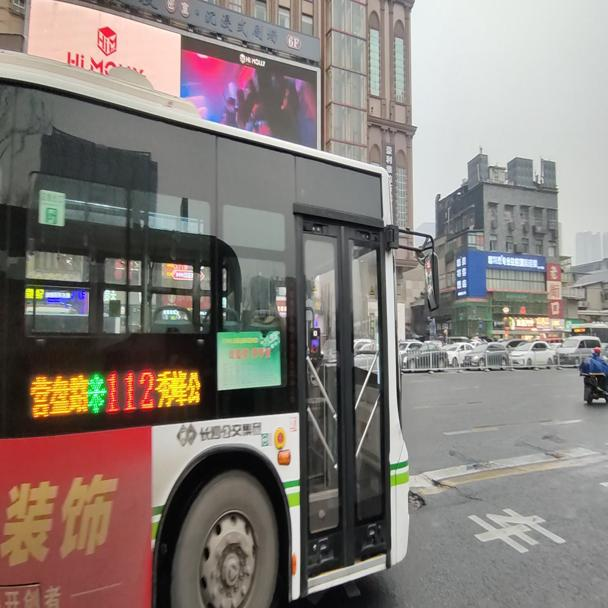bus: (0, 45, 441, 600)
screen: (106, 367, 154, 416)
